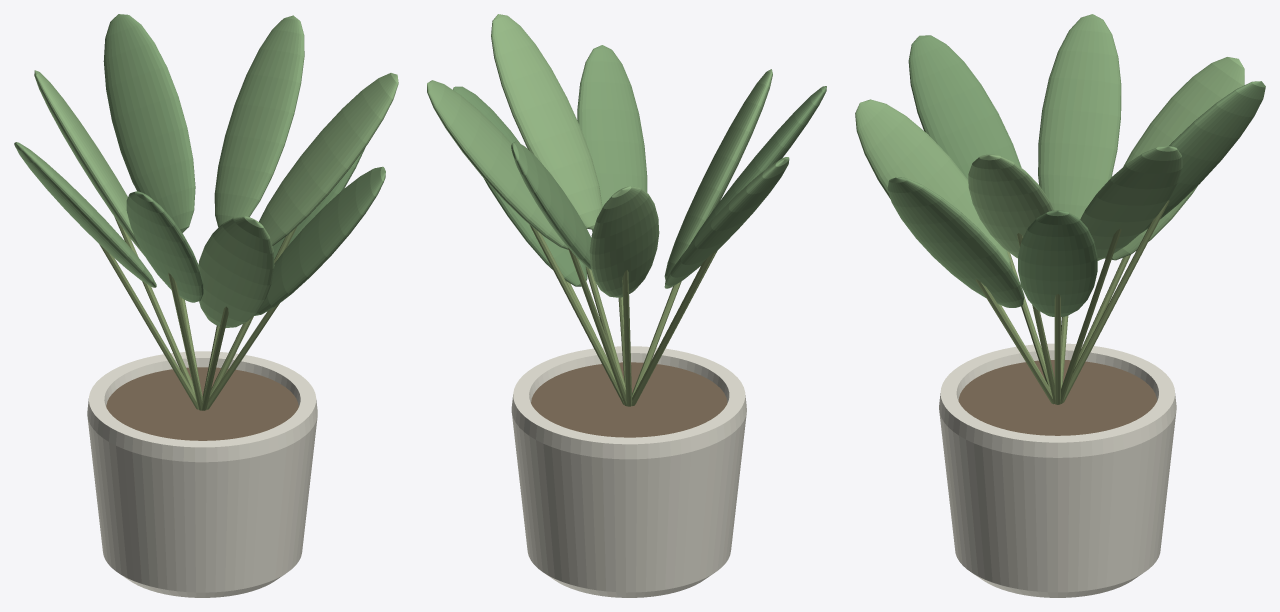
Rendered from planter.glb.
The picture shows the model from 3 angles, left to right: view 1: azimuth 30°, elevation 25°; view 2: azimuth 150°, elevation 25°; view 3: azimuth 270°, elevation 25°; orthographic projection. The views are drawn at different scales.
Visible parts, largest first — view 1: ceramic-pot, leaf-2, leaf-5, soil, leaf-8, leaf-6, leaf-3, leaf-1, leaf-7, leaf-4, stem-4, stem-7 (+5 smaller); view 2: ceramic-pot, soil, leaf-8, leaf-3, leaf-5, leaf-7, leaf-6, leaf-4, leaf-2, leaf-1, leaf-0, stem-5 (+5 smaller); view 3: ceramic-pot, leaf-4, soil, leaf-1, leaf-3, leaf-6, leaf-0, leaf-5, leaf-8, leaf-2, leaf-7, stem-2 (+6 smaller).
Part boxes in pixels (<box>): ceramic-pot: <box>87,351,317,597</box>; leaf-2: <box>103,14,195,232</box>; leaf-5: <box>214,15,304,227</box>; soil: <box>106,367,298,440</box>; leaf-8: <box>259,73,398,245</box>; leaf-6: <box>198,216,274,327</box>; leaf-3: <box>253,166,385,316</box>; leaf-1: <box>126,191,203,302</box>; leaf-7: <box>34,70,144,255</box>; leaf-4: <box>14,142,156,287</box>; stem-4: <box>99,244,198,409</box>; stem-7: <box>114,217,194,393</box>; ceramic-pot: <box>511,346,746,597</box>; soil: <box>531,362,727,437</box>; leaf-8: <box>491,14,602,229</box>; leaf-3: <box>577,45,647,231</box>; leaf-5: <box>427,80,568,249</box>; leaf-7: <box>589,186,659,297</box>; leaf-6: <box>664,69,772,280</box>; leaf-4: <box>664,157,789,288</box>; leaf-2: <box>511,141,591,269</box>; leaf-1: <box>688,86,826,247</box>; leaf-0: <box>453,86,587,286</box>; stem-5: <box>529,224,624,404</box>; ceramic-pot: <box>939,343,1176,597</box>; leaf-4: <box>1038,14,1121,219</box>; soil: <box>958,360,1156,435</box>; leaf-1: <box>908,35,1021,179</box>; leaf-3: <box>887,177,1024,307</box>; leaf-6: <box>855,99,1010,265</box>; leaf-0: <box>1018,210,1097,316</box>; leaf-5: <box>1080,146,1182,260</box>; leaf-8: <box>968,154,1053,258</box>; leaf-2: <box>1141,81,1265,232</box>; leaf-7: <box>1104,57,1244,260</box>; stem-2: <box>1062,200,1169,402</box>.
Bounding box in the file's own units: 0.2527 × 0.3352 × 0.2555.
